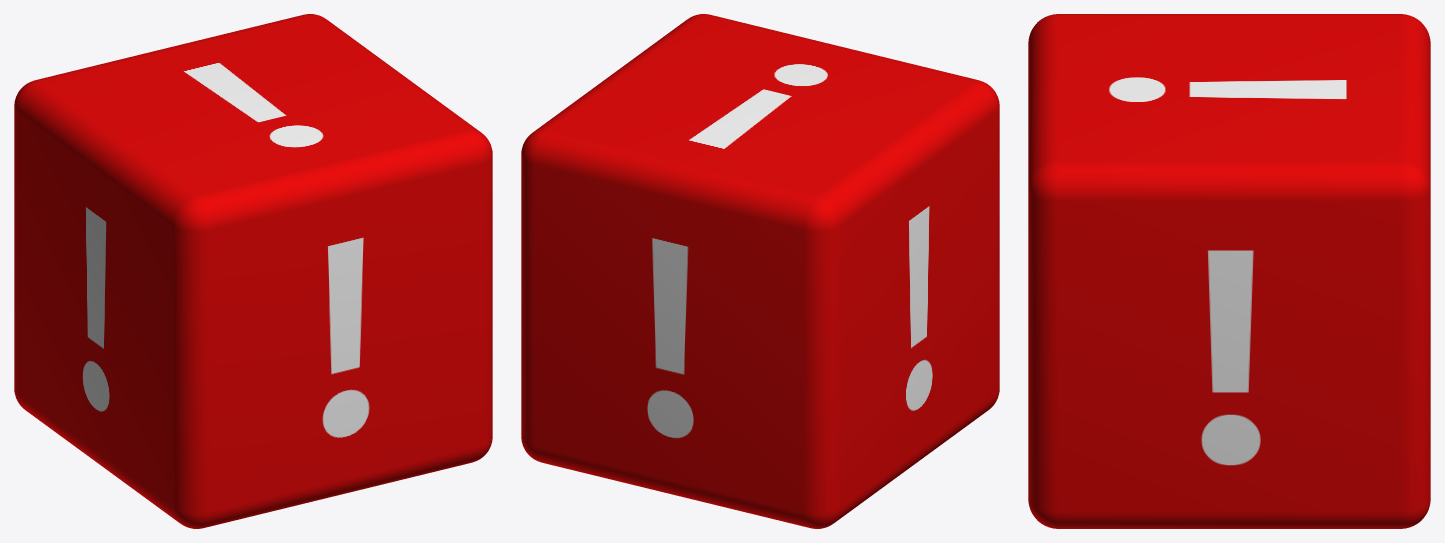
Rendered from 3d_object_error.glb.
The picture shows the model from 3 angles, left to right: view 1: azimuth 30°, elevation 25°; view 2: azimuth 150°, elevation 25°; view 3: azimuth 270°, elevation 25°; orthographic projection. The views are drawn at different scales.
Parts seen in each view (by area): view 1: Cube; view 2: Cube; view 3: Cube.
Part boxes in pixels (bbox=[...]): Cube: bbox=[14, 14, 492, 528]; Cube: bbox=[521, 14, 999, 528]; Cube: bbox=[1028, 14, 1430, 528].
Bounding box in the file's own units: 2 × 2 × 2.
1 material, 1 textured.
